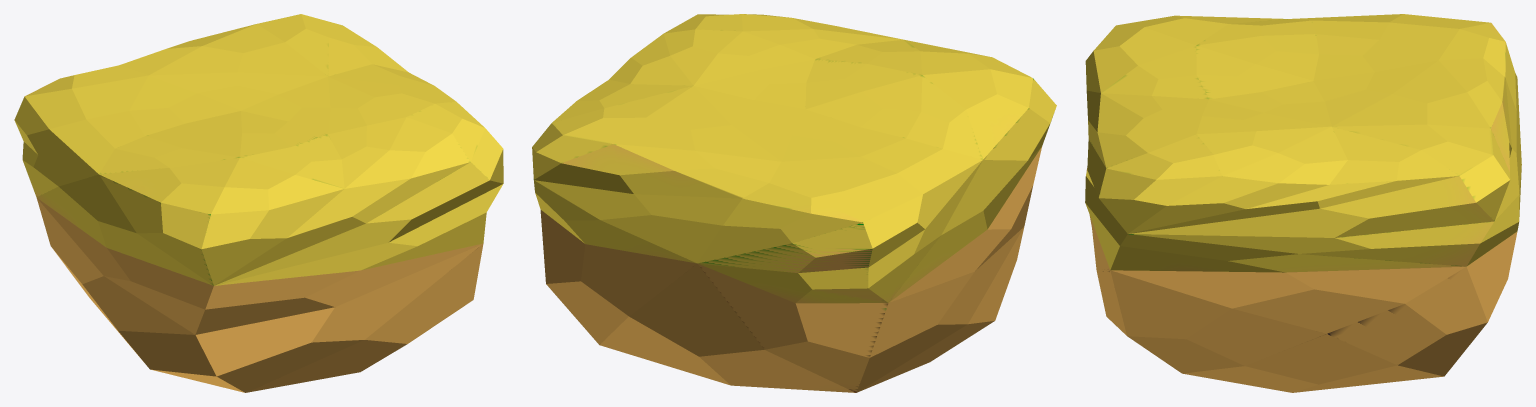
File: DesertBlock.fbx
3 renders of one model, left to right at view 1: azimuth 30°, elevation 25°; view 2: azimuth 150°, elevation 25°; view 3: azimuth 270°, elevation 25°, orthographic. The views are drawn at different scales.
Visible parts, largest first — view 1: Cube; view 2: Cube; view 3: Cube.
Boxes of the visible parts, x1=… form: Cube: x1=14, y1=14, x2=503, y2=392; Cube: x1=532, y1=14, x2=1056, y2=392; Cube: x1=1085, y1=14, x2=1521, y2=392.
Bounding box in the file's own units: 195 × 125 × 194.
